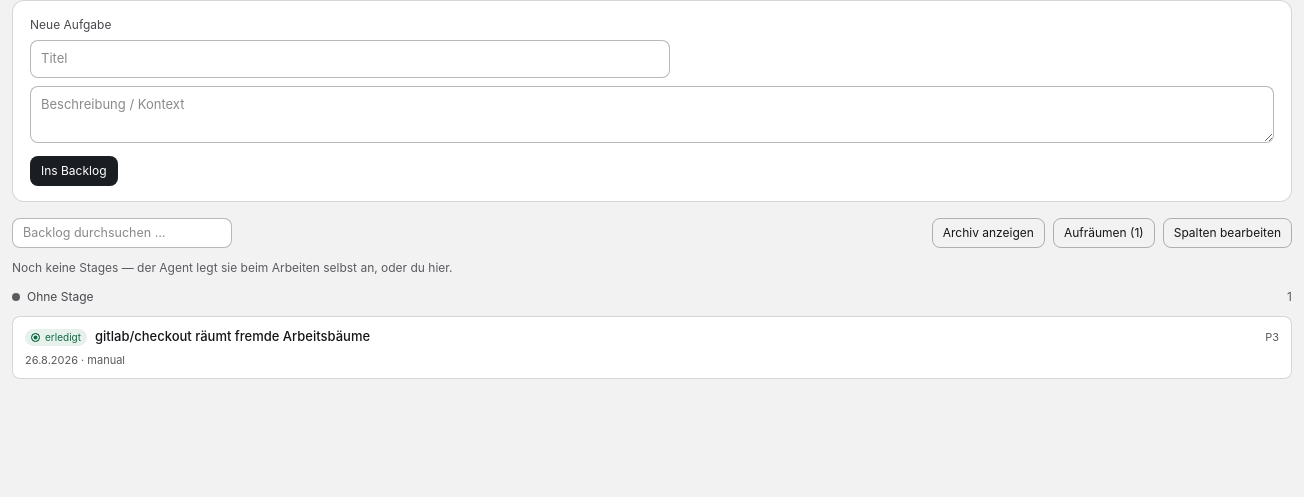
Test: Befund aus einer Aufgaben-Notiz melden › zeigt keinen Link, wo die Herkunft unbekannt ist
Click the text "gitlab/checkout räumt fremde Arbeitsbäume" at (233, 337), box [95,327,370,347]
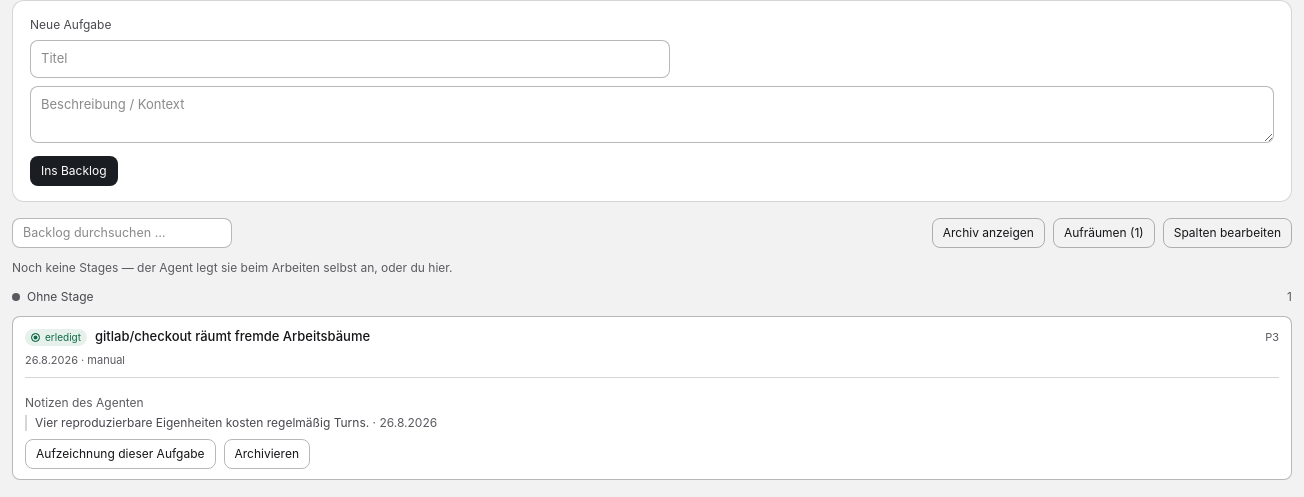
expect the text "Vier reproduzierbare Eigenheiten kosten regelmäßig Turns." is shown: met, box [35,415,369,430]
